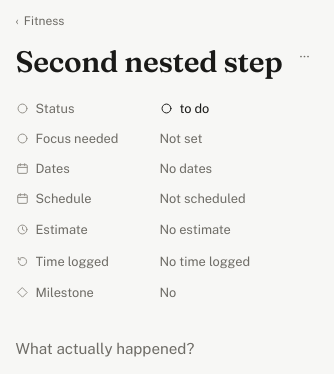
Test case: TaskPage › offers both Indent and Outdent for a nested leaf with a preceding sibling
Click the button named "Actions for ". click: click(304, 56)
box: top-left (292, 44), bottom-right (316, 68)
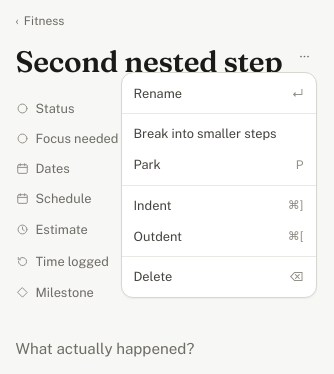
Expected: the menu item "Indent ⌘]" is shown, top-left (122, 190), bottom-right (316, 221)
Expected: the menu item "Outdent ⌘[" is shown, top-left (122, 221), bottom-right (316, 252)
